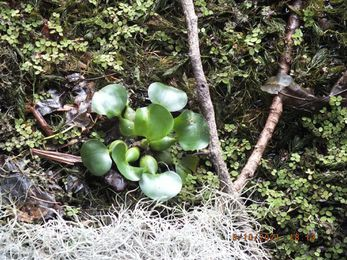water_hyacinth: (74, 79, 210, 203)
